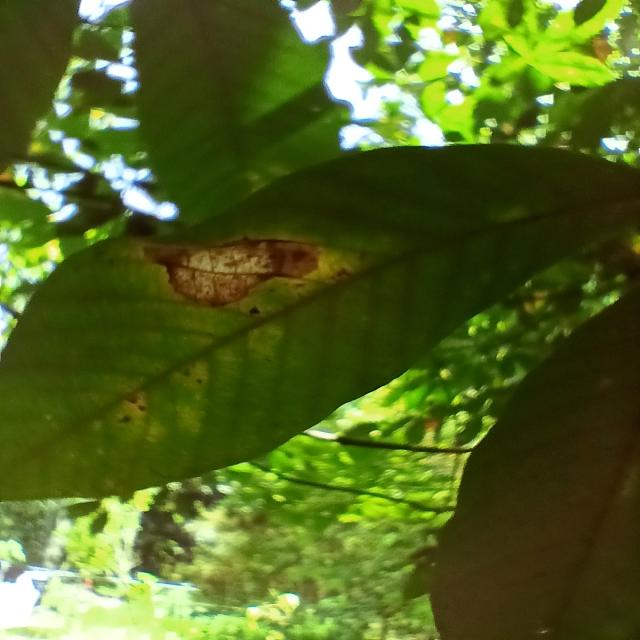Colletotrichum: (248, 305, 260, 316)
Leaf-Blight: (144, 238, 318, 306)
